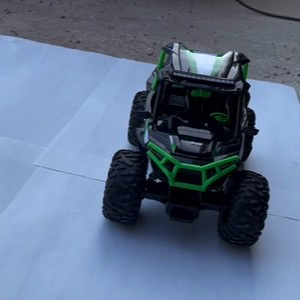polaris: (103, 42, 273, 251)
